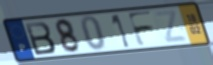0: (80, 15, 109, 53)
1: (110, 13, 131, 49)
8: (56, 17, 81, 54)
B: (23, 20, 58, 57)
F: (126, 10, 156, 48)
Z: (153, 8, 190, 44)
